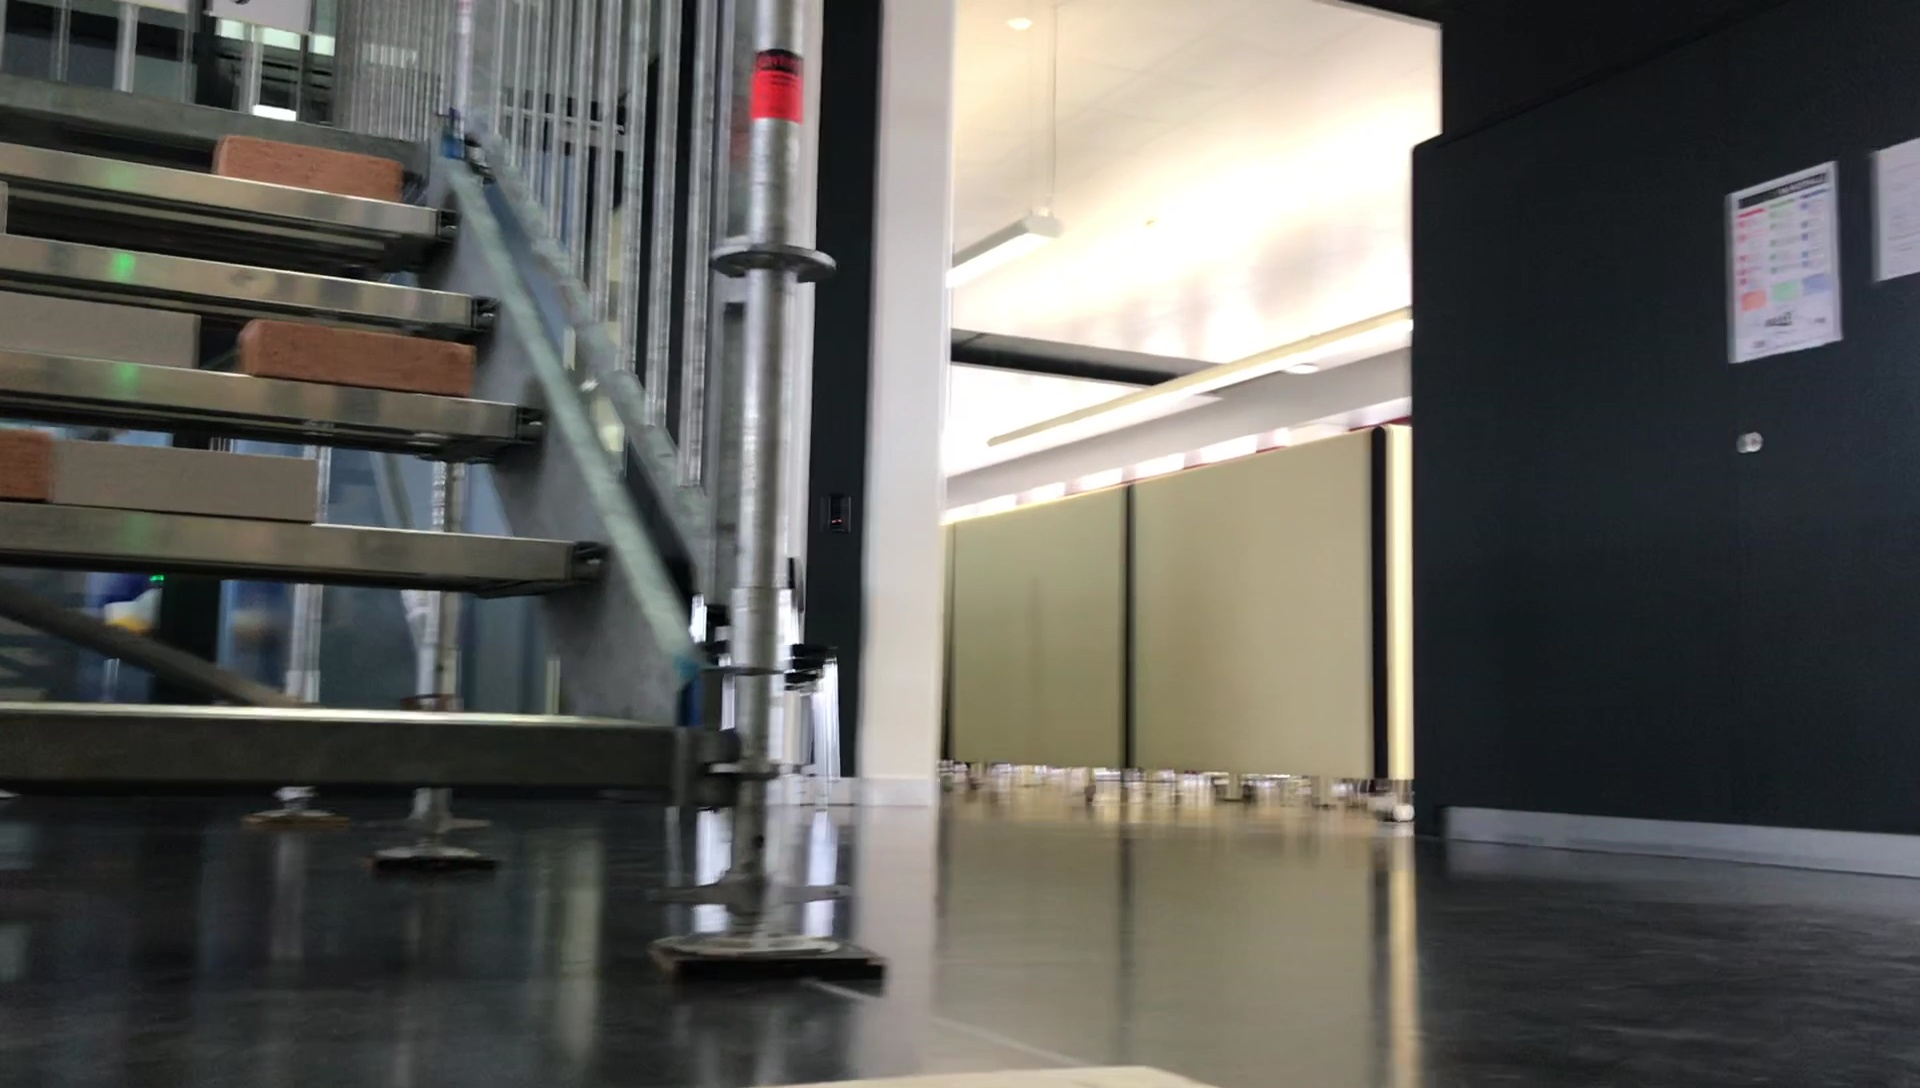brick: (50, 444, 323, 516), (249, 317, 465, 386), (212, 145, 398, 202)
edge: (0, 713, 704, 789), (0, 521, 622, 571), (0, 161, 438, 226), (0, 243, 491, 294), (0, 369, 564, 404)
steps: (0, 79, 731, 797)
